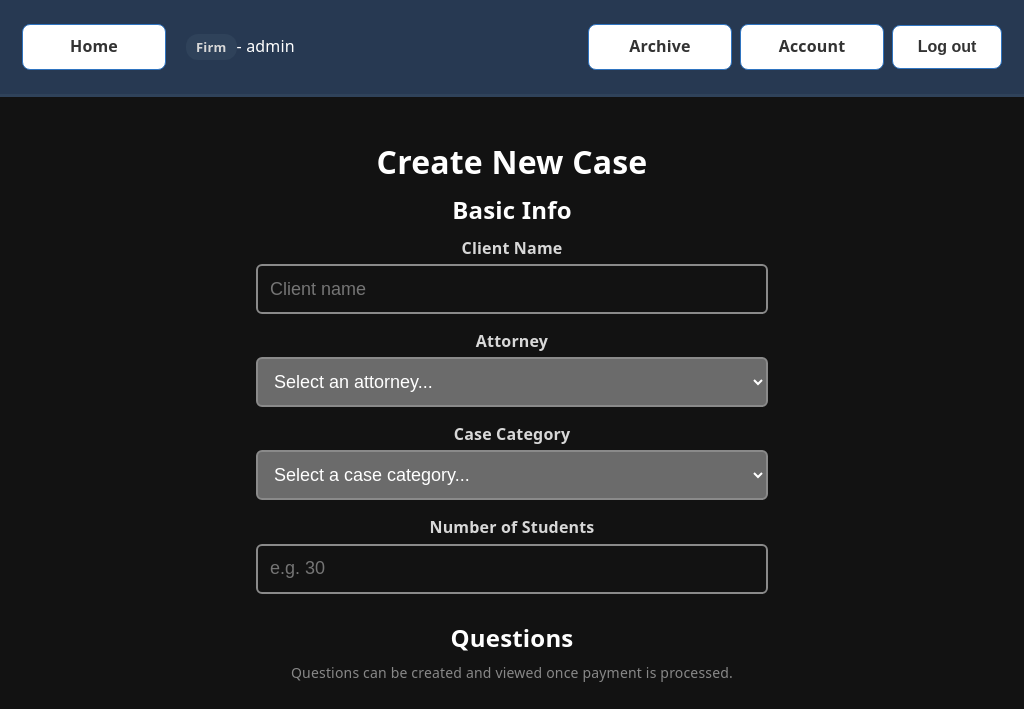
it: CreateCaseScreen › closes on No without creating anything and keeps the form
This screenshot has width=1024, height=709.
Type "Jane Client" into the field with placeholder "Client Name" at (512, 289), box [256,264,768,314]
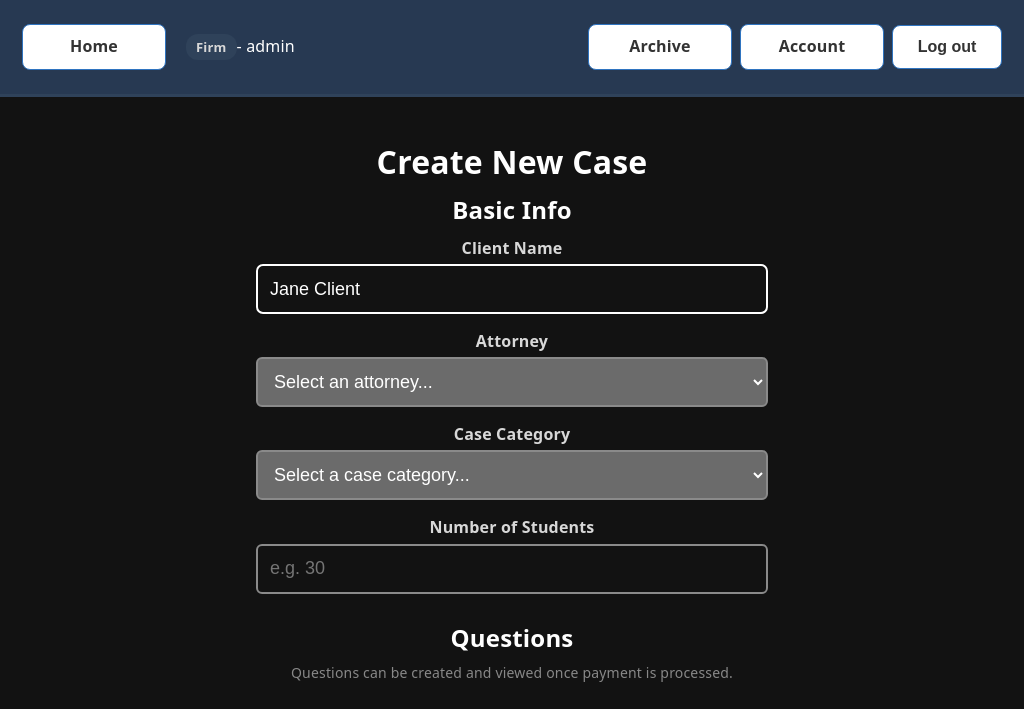
Select "bob" in the dropdown labelled "Attorney" at (512, 382), box [256,357,768,407]
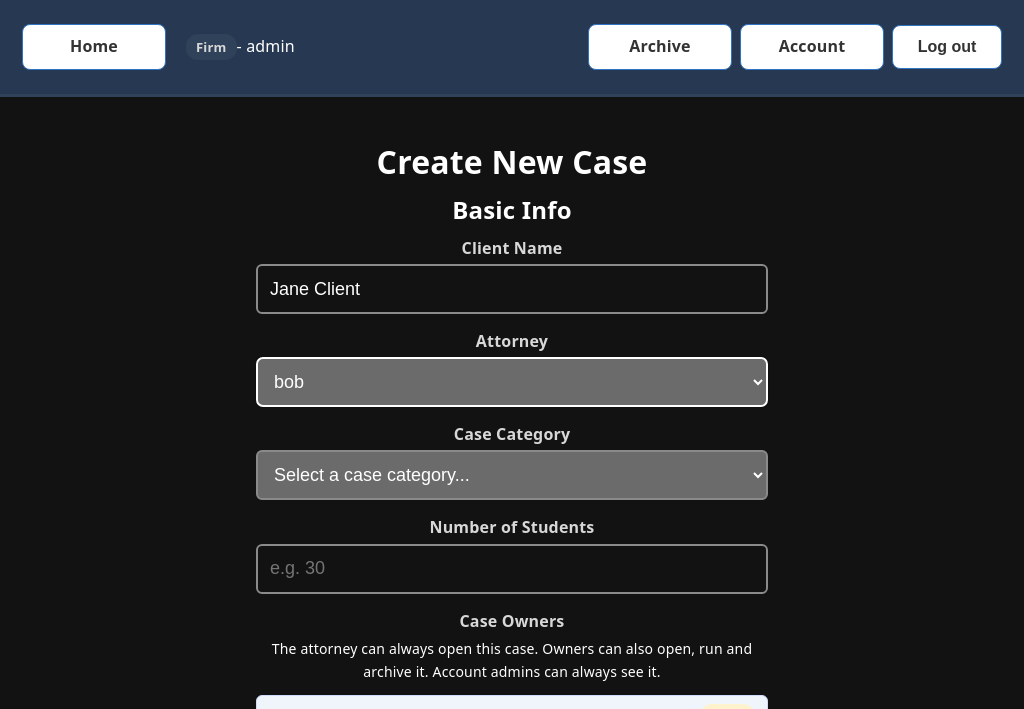
Select "Theft" in the dropdown labelled "Case Category" at (512, 476), box [256,450,768,500]
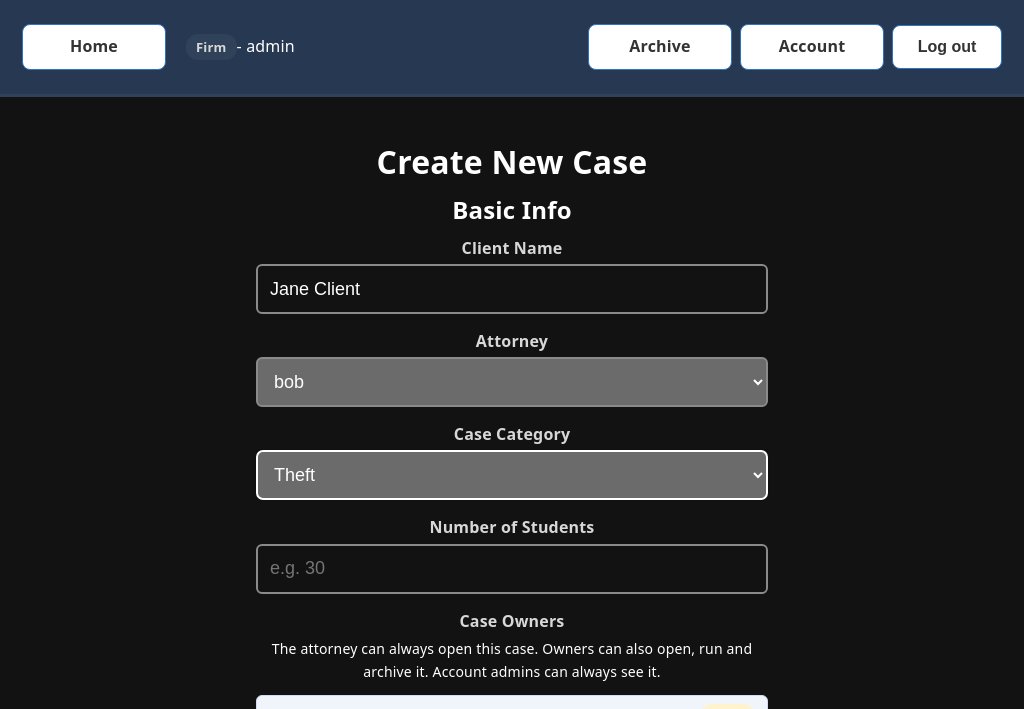
Type "12" into the number field with placeholder "e.g. 30" at (512, 569), box [256,544,768,594]
(page scrolled)
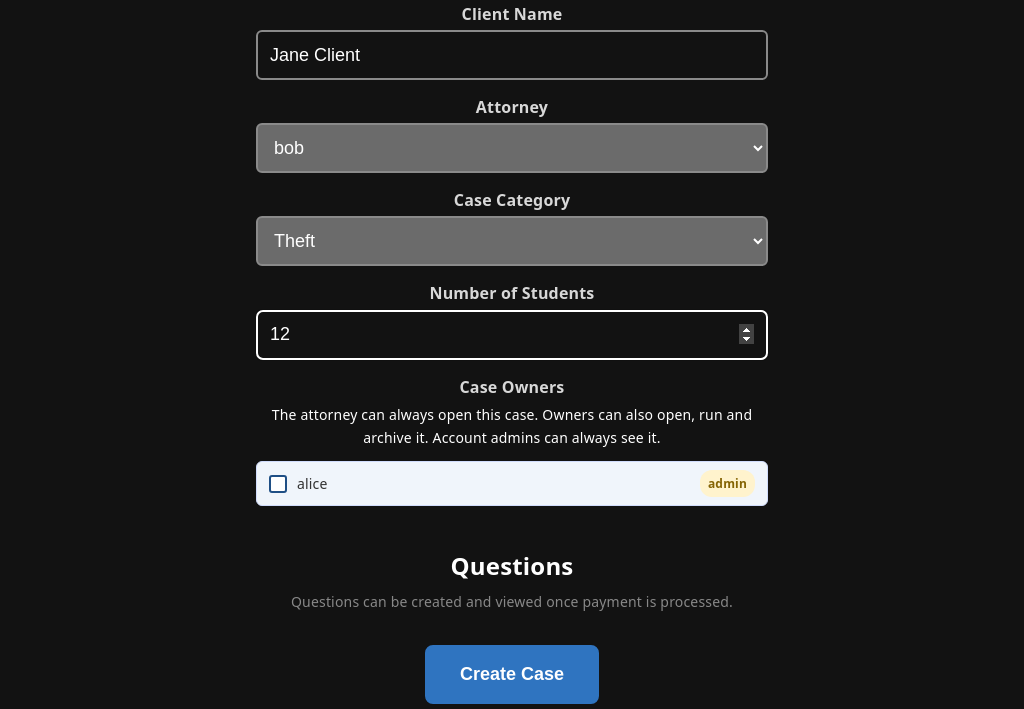
Click the button "Create Case" at (512, 674), box [425,645,599,704]
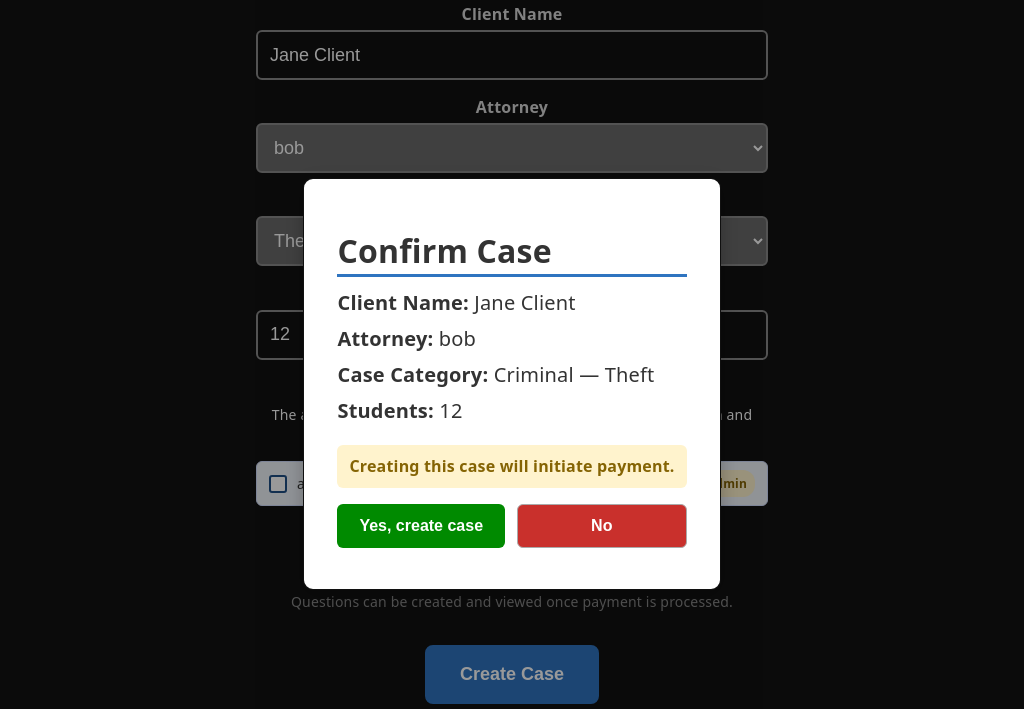
Click the button "No" at (602, 526), box [517,504,686,548]
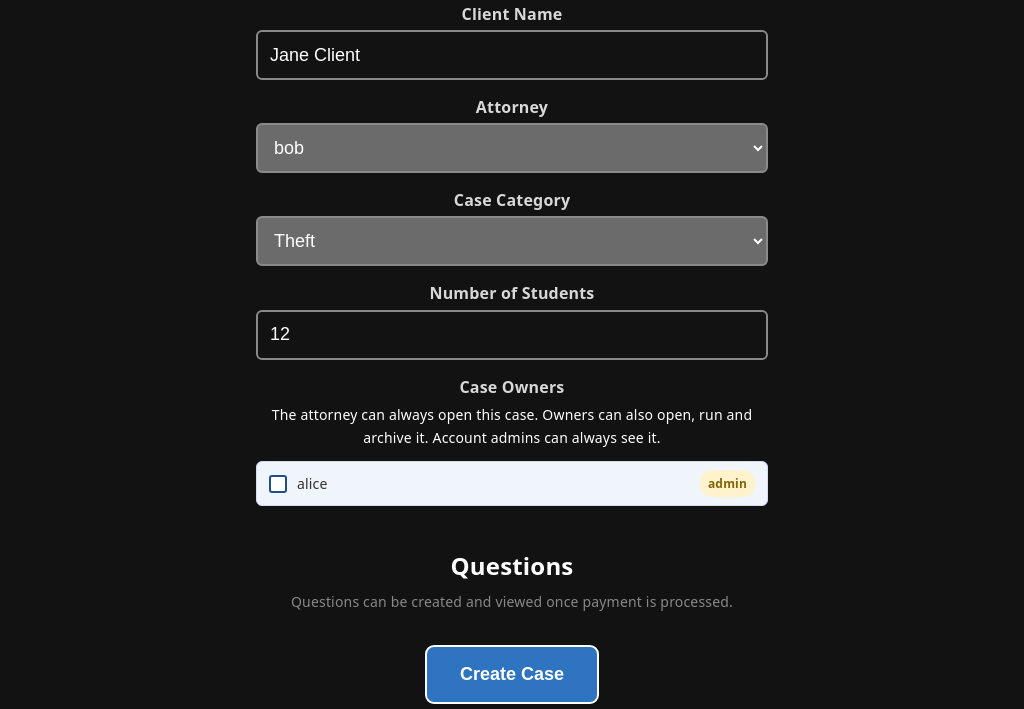
Expected: the heading "Confirm Case" is gone
